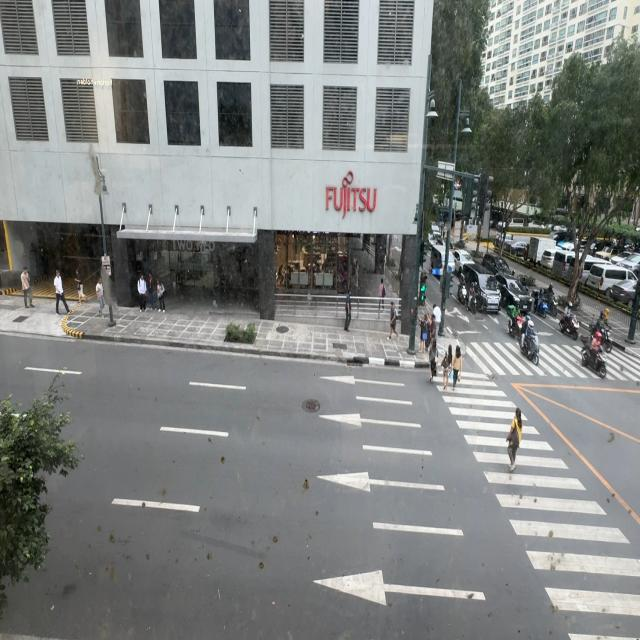crossing: (507, 408, 522, 470), (451, 345, 463, 391), (441, 346, 451, 388), (432, 303, 442, 339), (429, 344, 438, 383)
jaywalking: (507, 408, 522, 470)
pedestrain: (21, 266, 34, 308), (388, 300, 399, 340), (148, 274, 158, 311), (344, 286, 352, 330), (379, 280, 385, 298)
waiting: (428, 316, 437, 355), (423, 315, 432, 354)
